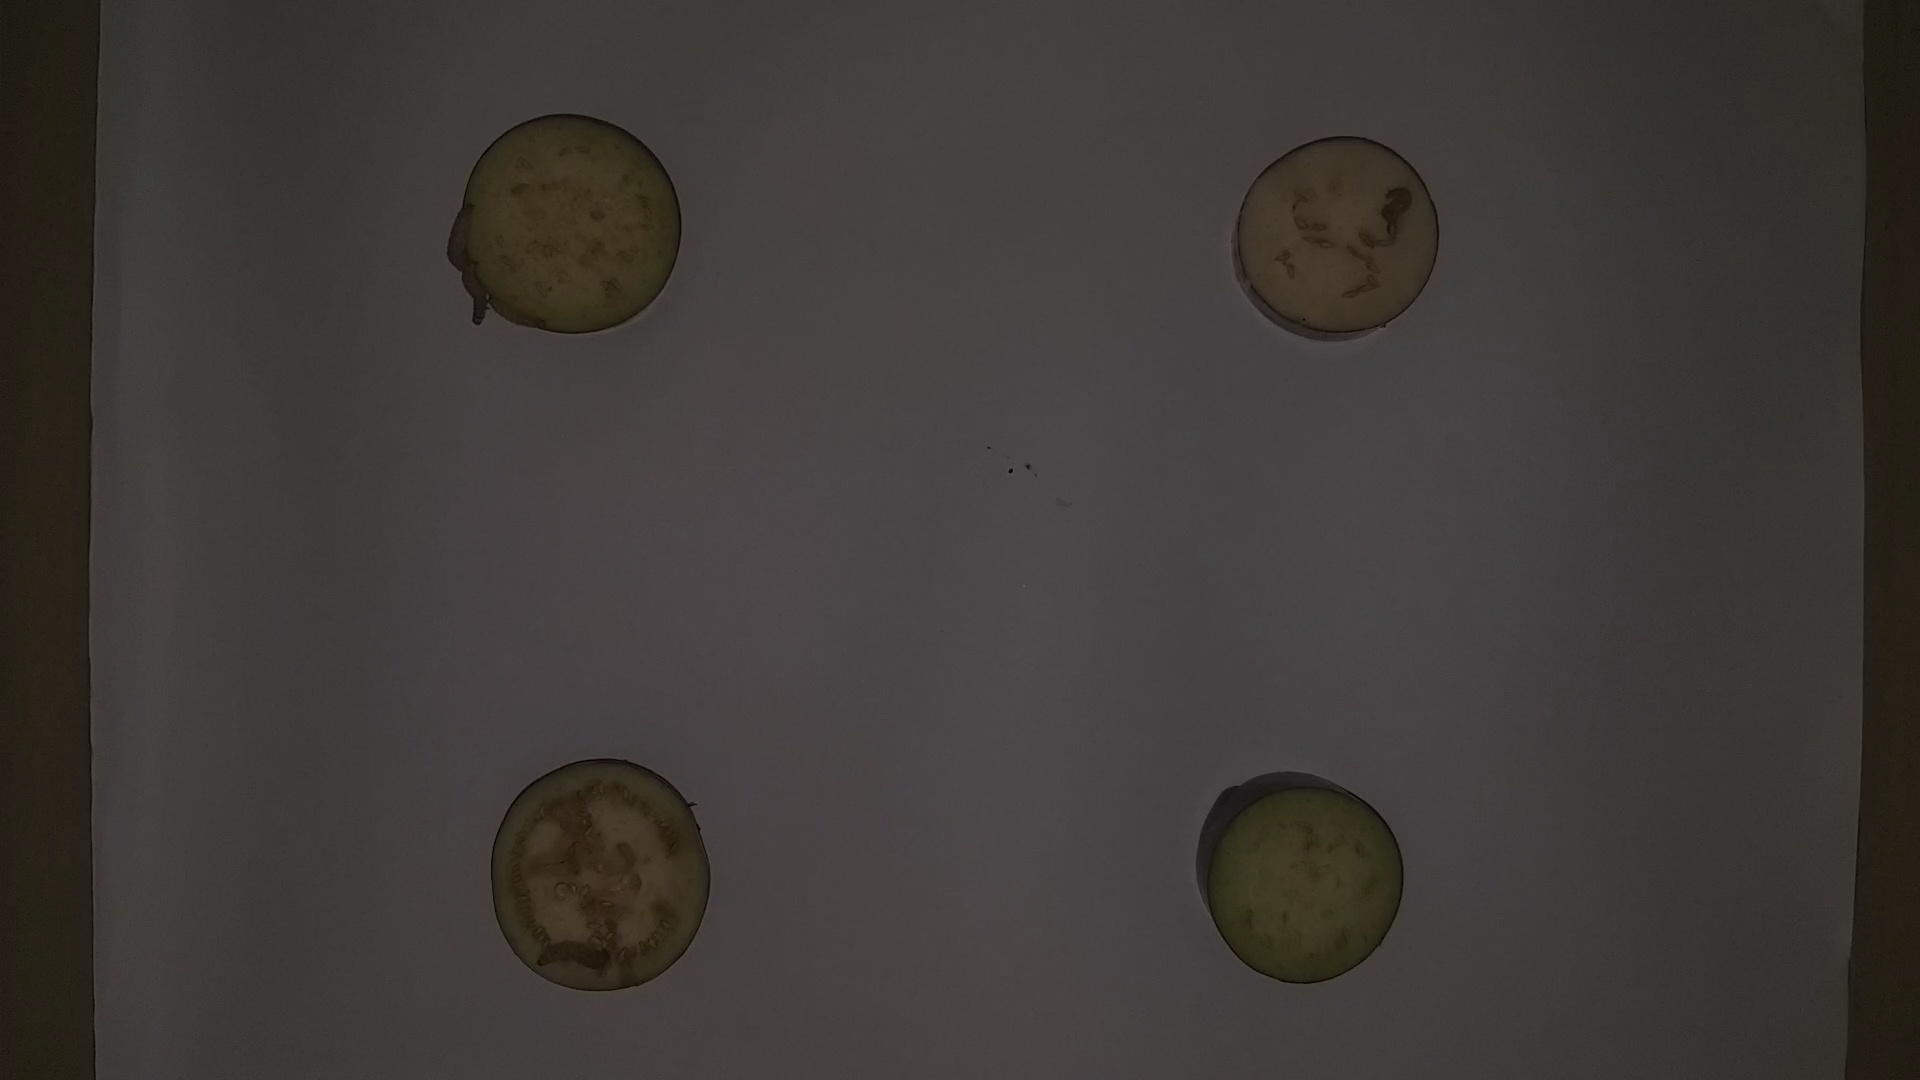efsb: (522, 934, 612, 975), (438, 196, 479, 274), (477, 291, 551, 332), (456, 251, 493, 328), (1374, 177, 1416, 232)
eggplant: (477, 746, 721, 1000), (456, 109, 694, 340), (1187, 771, 1414, 986), (1226, 131, 1439, 353)
